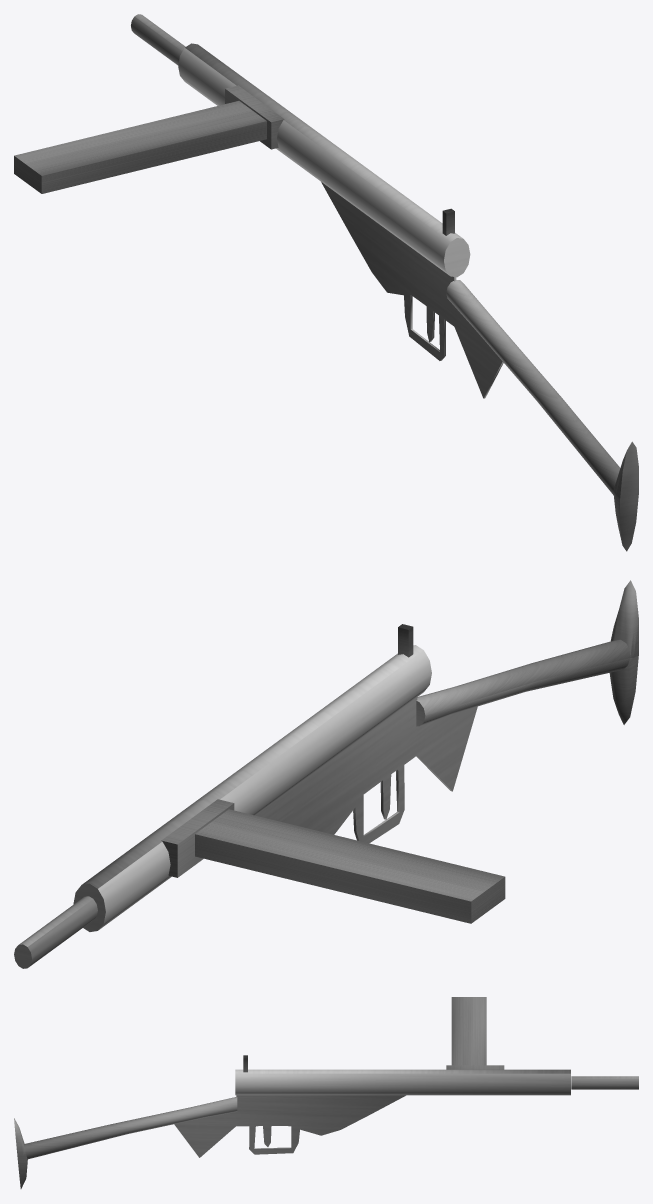
File: sten.fbx
3 views of the same model, one above another, from view 1: azimuth 30°, elevation 25°; view 2: azimuth 150°, elevation 25°; view 3: azimuth 270°, elevation 25° (orthographic). The views are drawn at different scales.
Visible parts, largest first — view 1: Chamber, Magazine, Reciever, Butt, Barrel, MagazineSlot; view 2: Chamber, Magazine, Reciever, Butt, Barrel, MagazineSlot; view 3: Chamber, Reciever, Butt, Magazine, Barrel, MagazineSlot.
Boxes of the visible parts, <box> form: Chamber: <box>178,43,470,277</box>; Magazine: <box>14,101,266,193</box>; Reciever: <box>321,182,503,398</box>; Butt: <box>446,280,638,551</box>; Barrel: <box>131,14,185,65</box>; MagazineSlot: <box>225,85,284,149</box>; Chamber: <box>73,645,431,931</box>; Magazine: <box>195,809,505,923</box>; Reciever: <box>256,697,477,843</box>; Butt: <box>416,580,638,726</box>; Barrel: <box>14,896,97,968</box>; MagazineSlot: <box>161,799,234,877</box>; Chamber: <box>235,1069,570,1095</box>; Reciever: <box>174,1095,405,1157</box>; Butt: <box>14,1097,237,1188</box>; Magazine: <box>451,997,486,1065</box>; Barrel: <box>571,1076,638,1089</box>; MagazineSlot: <box>446,1065,504,1069</box>.
Bounding box in the file's own units: 26.97 × 21.08 × 89.78.
1 material, 1 textured.
